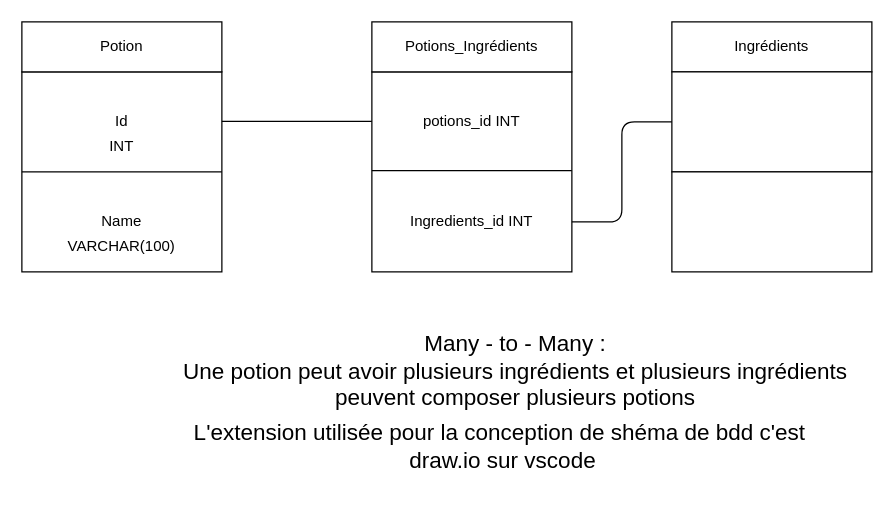
The diagram is 894 pixels wide and 519 high, and some of its shapes have lost their labels. The shapes that lost their labels are listed below. From the top down, each one's box as (x1, y1, x2, y2) in pixels, then its label:
(671, 71, 872, 172): Id INT
(671, 171, 872, 272): Name VARCHAR (100)
